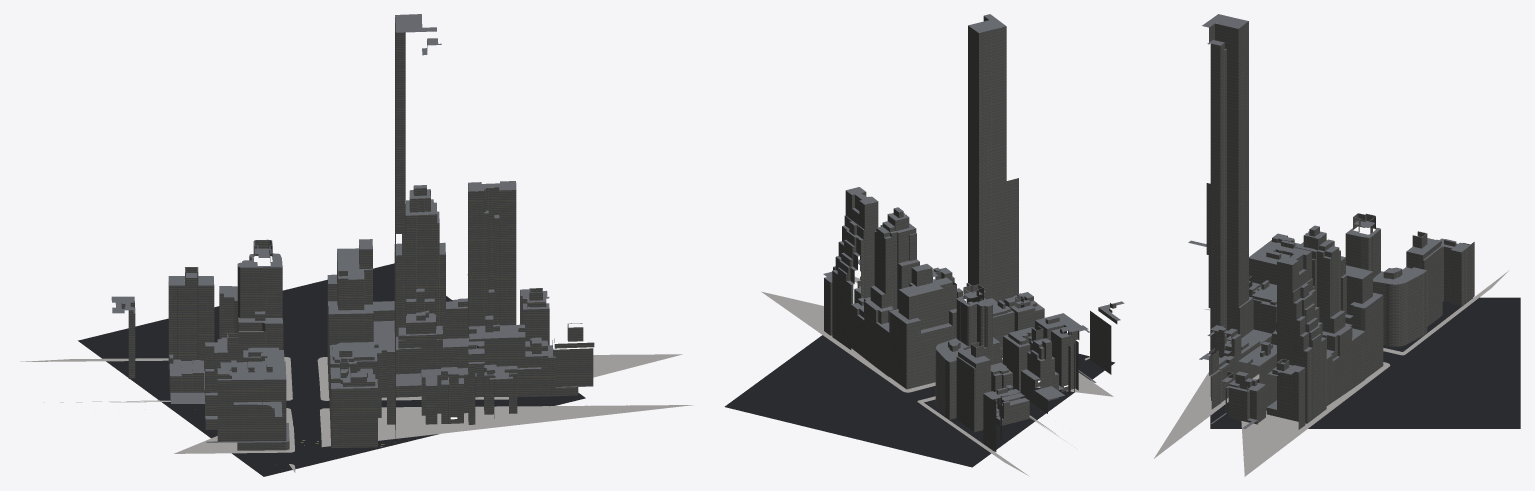
3 renders of one model, left to right at view 1: azimuth 30°, elevation 25°; view 2: azimuth 150°, elevation 25°; view 3: azimuth 270°, elevation 25°, orthographic. The views are drawn at different scales.
Parts seen in each view (by area): view 1: t5_1, detail; view 2: t5_1, detail; view 3: t5_1, detail.
Boxes of the visible parts, x1,y1,x2,y2 form: t5_1: [78, 14, 594, 476]; detail: [20, 354, 693, 472]; t5_1: [724, 14, 1124, 467]; detail: [761, 277, 1113, 476]; t5_1: [1188, 14, 1520, 429]; detail: [1154, 270, 1509, 476].
Bounding box in the file's own units: 433 × 304 × 296.
5 materials, 2 textured.
